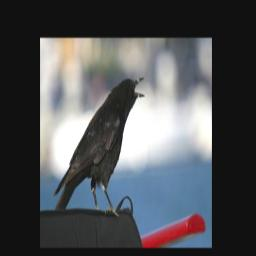Crow: (52, 74, 146, 221)
